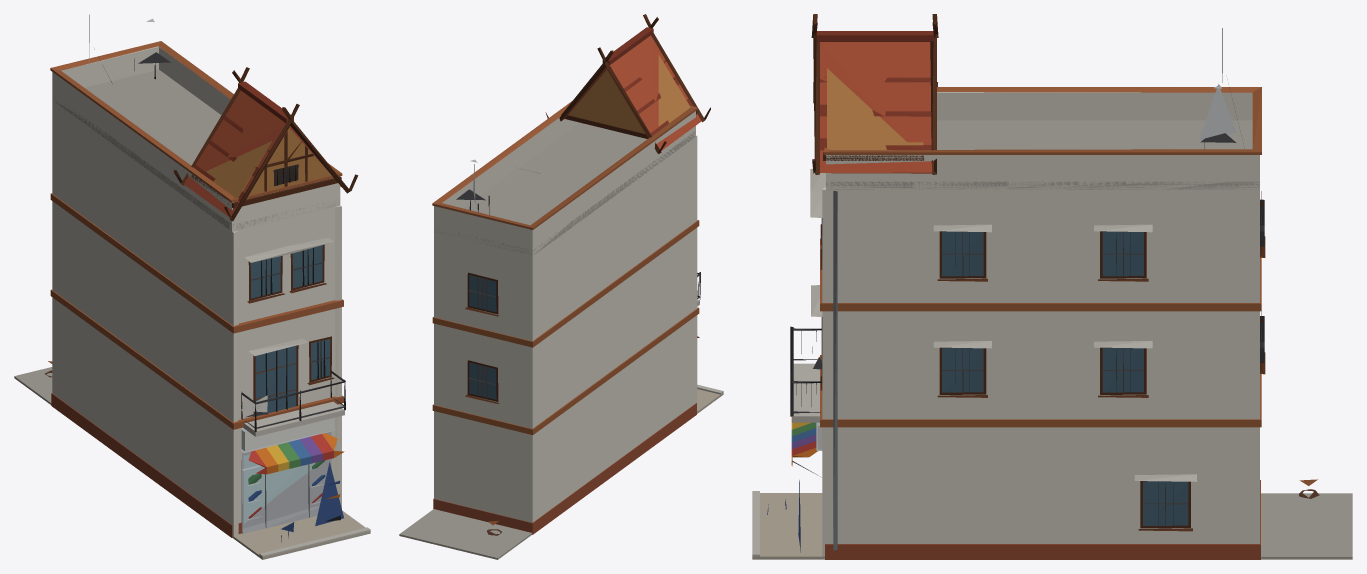
File: bay2_right.glb
3 renders of one model, left to right at view 1: azimuth 30°, elevation 25°; view 2: azimuth 150°, elevation 25°; view 3: azimuth 270°, elevation 25°, orthographic. The views are drawn at different scales.
Parts seen in each view (by area): view 1: body, windows; view 2: body, windows; view 3: body, windows.
Part boxes in pixels (<box>): body: <box>14,14,370,559</box>; windows: <box>250,164,330,416</box>; body: <box>399,14,723,559</box>; windows: <box>469,275,496,399</box>; body: <box>752,14,1352,559</box>; windows: <box>942,200,1261,525</box>.
Bounding box in the file's own units: 4.98 × 15.02 × 15.9.
